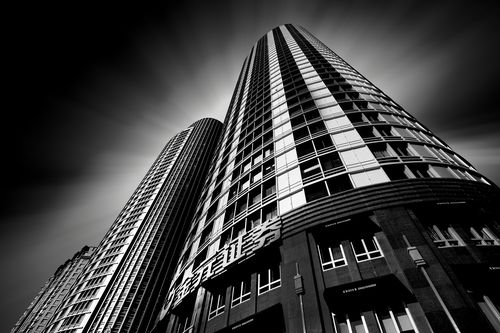buildings: (156, 54, 475, 311)
